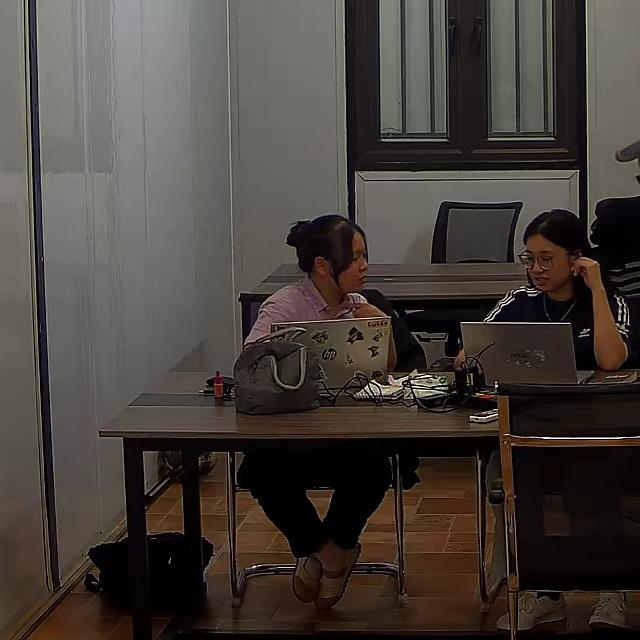no_helmet: (285, 215, 364, 279), (522, 209, 586, 253)
none: (480, 283, 640, 372), (241, 276, 372, 354)
